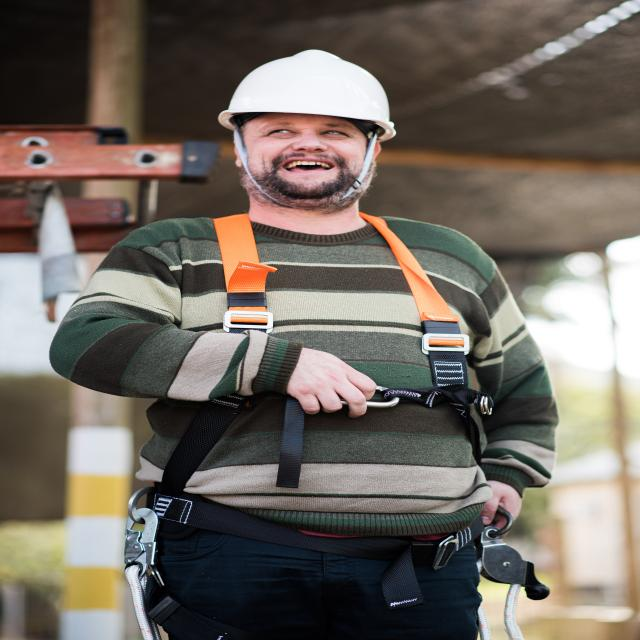capacete: (212, 44, 408, 144)
corda de vida: (118, 205, 556, 640)
